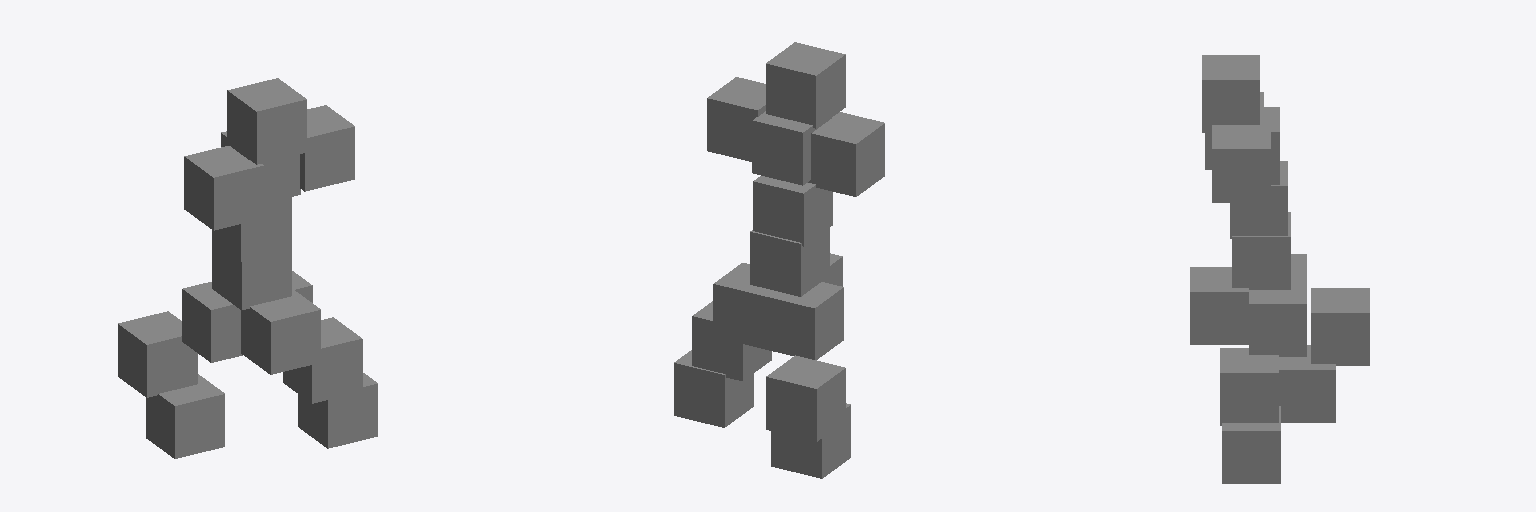
The model's file is Kinect_virtual2.unity_12.obj.
3 views of the same model, side by side, from view 1: azimuth 30°, elevation 25°; view 2: azimuth 150°, elevation 25°; view 3: azimuth 270°, elevation 25° (orthographic).
Parts seen in each view (by area): view 1: Block(Clone), Block2(Clone); view 2: Block(Clone), Block2(Clone); view 3: Block(Clone), Block2(Clone).
Part boxes in pixels (left/top/right/bottom): Block(Clone): left=118, top=78, right=377, bottom=458; Block2(Clone): left=182, top=271, right=312, bottom=362; Block(Clone): left=674, top=42, right=884, bottom=478; Block2(Clone): left=713, top=263, right=843, bottom=359; Block(Clone): left=1190, top=55, right=1369, bottom=483; Block2(Clone): left=1249, top=254, right=1306, bottom=356.
Size of the model in its own units: 2.03 by 3.78 by 1.68.